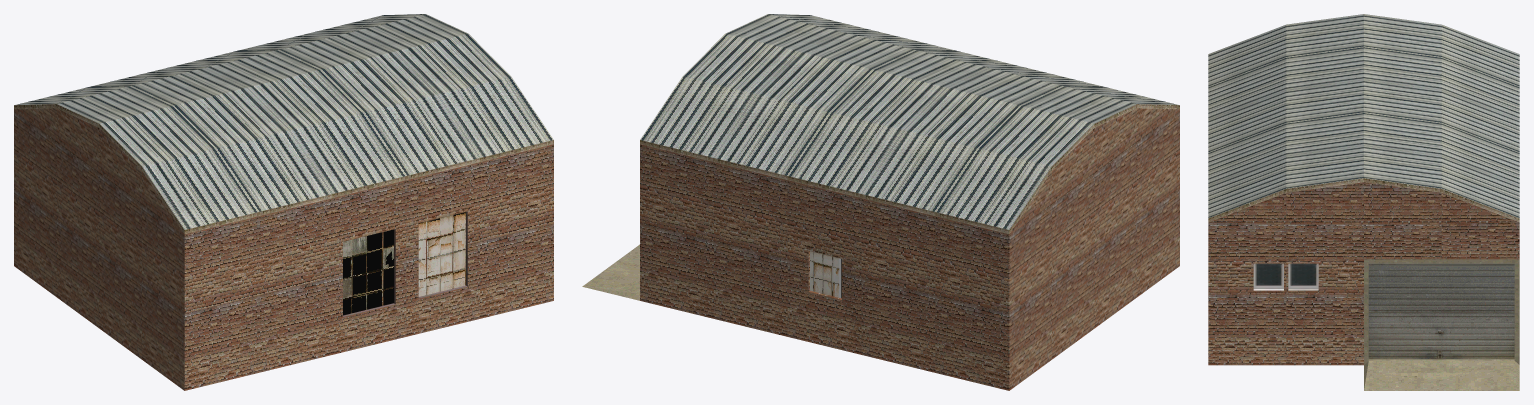
The model's file is Hangar1.glb.
The picture shows the model from 3 angles, left to right: view 1: azimuth 30°, elevation 25°; view 2: azimuth 150°, elevation 25°; view 3: azimuth 270°, elevation 25°; orthographic projection. The views are drawn at different scales.
Parts seen in each view (by area): view 1: Hangar1; view 2: Hangar1; view 3: Hangar1.
Part boxes in pixels (left/top/right/bottom): Hangar1: left=14, top=14, right=553, bottom=390; Hangar1: left=582, top=14, right=1179, bottom=390; Hangar1: left=1208, top=14, right=1519, bottom=390.
Size of the model in its own units: 11.57 by 5.3 by 8.
1 material, 1 textured.
